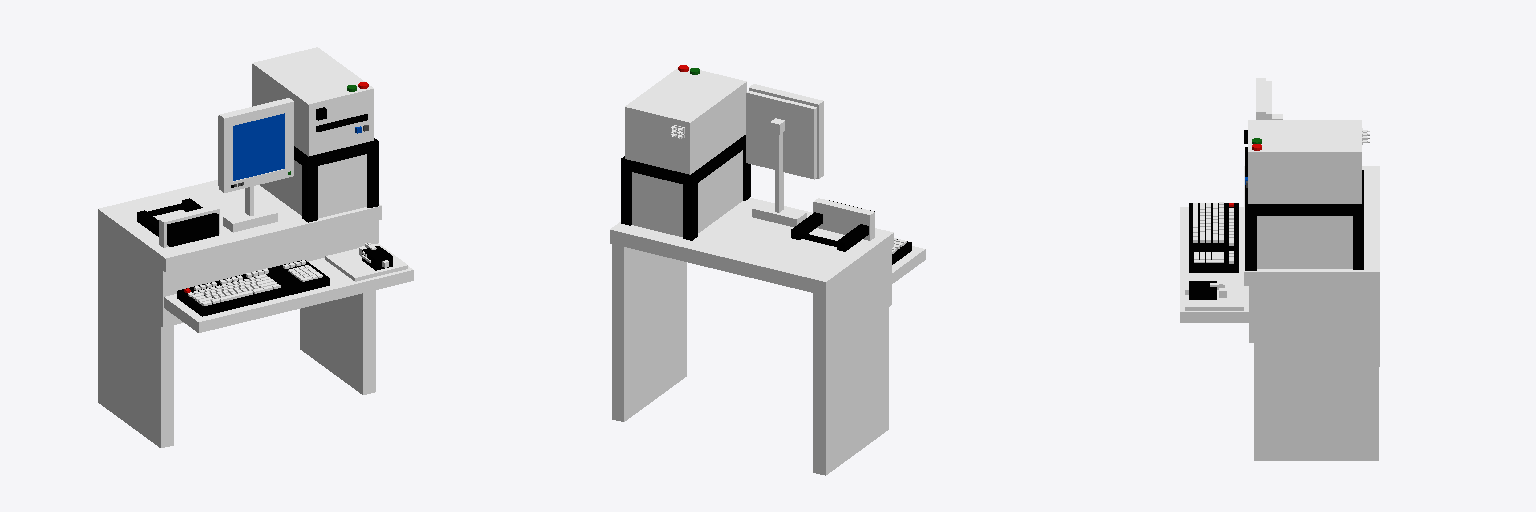
3 views of the same model, side by side, from view 1: azimuth 30°, elevation 25°; view 2: azimuth 150°, elevation 25°; view 3: azimuth 270°, elevation 25° (orthographic).
Parts seen in each view (by area): view 1: group[number redacted], group[number redacted], group[number redacted], group[number redacted], group[number redacted], group[number redacted], group[number redacted], group[number redacted], group[number redacted], group[number redacted], group[number redacted], group[number redacted] (+7 smaller); view 2: group[number redacted], group[number redacted], group[number redacted], group[number redacted], group[number redacted], group[number redacted], group[number redacted], group[number redacted], group[number redacted], group[number redacted], group[number redacted], group[number redacted] (+2 smaller); view 3: group[number redacted], group[number redacted], group[number redacted], group[number redacted], group[number redacted], group[number redacted], group[number redacted], group[number redacted], group[number redacted].
Boxes of the visible parts, x1,y1,x2,y2 form: group[number redacted]: [98, 223, 173, 447]; group[number redacted]: [252, 47, 373, 218]; group[number redacted]: [98, 180, 381, 271]; group[number redacted]: [300, 290, 375, 394]; group[number redacted]: [160, 221, 378, 327]; group[number redacted]: [164, 258, 413, 332]; group[number redacted]: [233, 113, 284, 180]; group[number redacted]: [177, 260, 329, 316]; group[number redacted]: [325, 243, 407, 281]; group[number redacted]: [167, 213, 218, 246]; group[number redacted]: [219, 98, 293, 127]; group[number redacted]: [302, 154, 317, 222]; group[number redacted]: [625, 67, 746, 236]; group[number redacted]: [813, 251, 888, 475]; group[number redacted]: [610, 198, 893, 295]; group[number redacted]: [612, 244, 686, 421]; group[number redacted]: [746, 91, 816, 179]; group[number redacted]: [813, 198, 874, 240]; group[number redacted]: [683, 174, 697, 240]; group[number redacted]: [752, 201, 806, 226]; group[number redacted]: [681, 135, 745, 186]; group[number redacted]: [775, 133, 783, 212]; group[number redacted]: [892, 246, 925, 283]; group[number redacted]: [622, 158, 694, 183]; group[number redacted]: [1254, 286, 1378, 460]; group[number redacted]: [1248, 120, 1361, 268]; group[number redacted]: [1244, 166, 1379, 285]; group[number redacted]: [1180, 207, 1253, 322]; group[number redacted]: [1189, 203, 1238, 272]; group[number redacted]: [1247, 204, 1363, 215]; group[number redacted]: [1185, 281, 1243, 310]; group[number redacted]: [1245, 201, 1256, 270]; group[number redacted]: [1353, 206, 1363, 269].
Bounding box in the file's own units: 3.09 × 4.29 × 2.48.